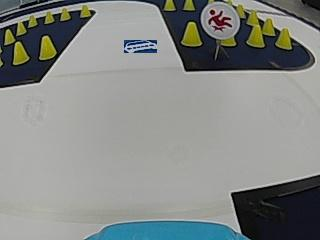cone: (181, 21, 202, 47), (38, 35, 56, 60), (246, 24, 264, 48), (275, 27, 292, 50), (12, 42, 28, 64), (262, 17, 275, 35), (246, 9, 259, 25), (4, 28, 14, 45), (79, 3, 90, 17), (60, 7, 71, 21), (16, 21, 27, 35), (163, 0, 176, 11), (27, 14, 38, 27), (44, 10, 54, 24), (236, 3, 245, 18), (183, 0, 195, 11)
tumble: (207, 7, 237, 36)
